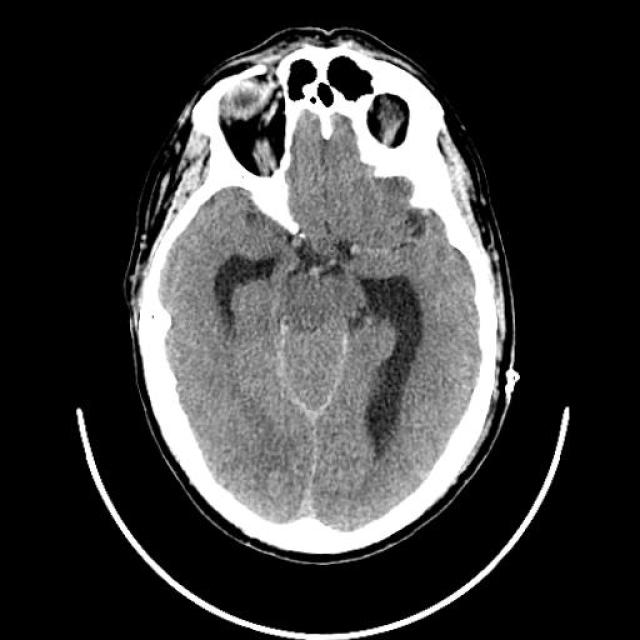Subdural: (253, 322, 365, 547)
